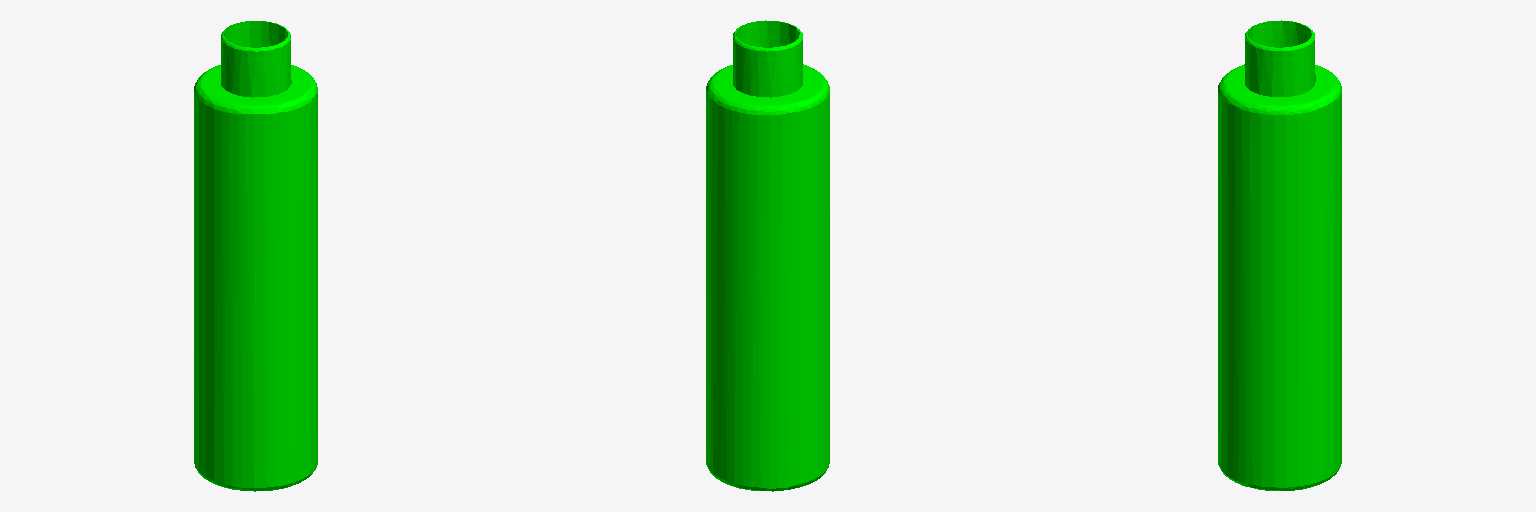
robot.urdf — bottle:
<?xml version="1.0"?>
<robot name="bottle">
    <link name="bottle_link">
        <contact>
            <friction_anchor/>
            <!-- <stiffness value="30000.0"/>
            <damping value="1000.0"/> -->
            <spinning_friction value="0.0"/>
            <lateral_friction value="0.0"/>
        </contact>
        <inertial>
            <origin rpy="0 0 0" xyz="0 0.0 0.0"/>
            <mass value="0.1"/>
            <inertia ixx="0.1" ixy="0" ixz="0" iyy="0.1" iyz="0" izz="0.1"/>
        </inertial>
        <visual>
            <origin rpy="0 0 0" xyz="0.089 0 0"/>
            <geometry>
                <mesh filename="madara_bottle_simplified.stl" scale="1.0 1.0 1.0"/> 
            </geometry>
            <material name="Green">
                <color rgba="0.0 1.0 0.0 1.0"/> 
            </material>
        </visual>
        <collision>
            <origin rpy="0 0 0" xyz="0.089 0 0"/>
            <geometry>
                <mesh filename="madara_bottle_simplified.stl" scale="1.0 1.0 1.0"/>  
            </geometry>
        </collision>
   </link>
</robot>

--- Facts derived from the render (not from the file) ---
Views: 3 orthographic renders of the robot side by side, from view 1: azimuth 30°, elevation 25°; view 2: azimuth 150°, elevation 25°; view 3: azimuth 270°, elevation 25°.
Robot: bottle — 1 links, 0 joints (none); root link bottle_link; default pose: every joint at zero.
Visible links, largest first — view 1: bottle_link; view 2: bottle_link; view 3: bottle_link.
Link boxes in pixels (<box>): bottle_link: <box>194,21,317,491</box>; bottle_link: <box>706,20,829,491</box>; bottle_link: <box>1218,20,1341,490</box>.
Bounding box of the posed robot: 0.0348 × 0.035 × 0.135 m (x, y, z).
Meshes: 1 distinct files referenced, 1 mesh visuals loaded (1 binary STL).